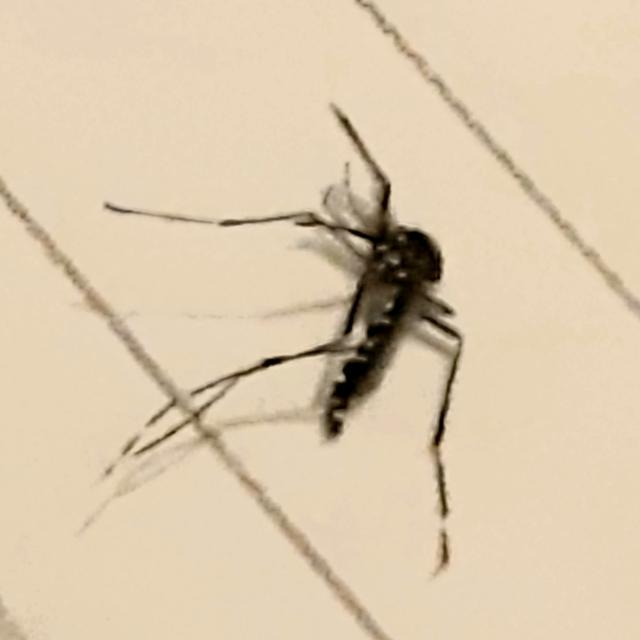aegypti: (70, 100, 498, 562)
